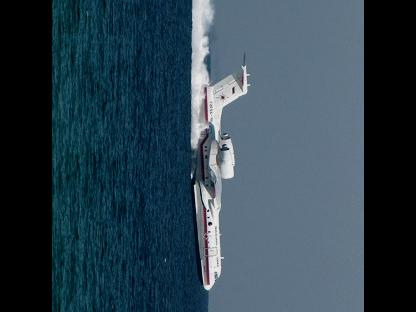B52: (191, 52, 251, 290)
